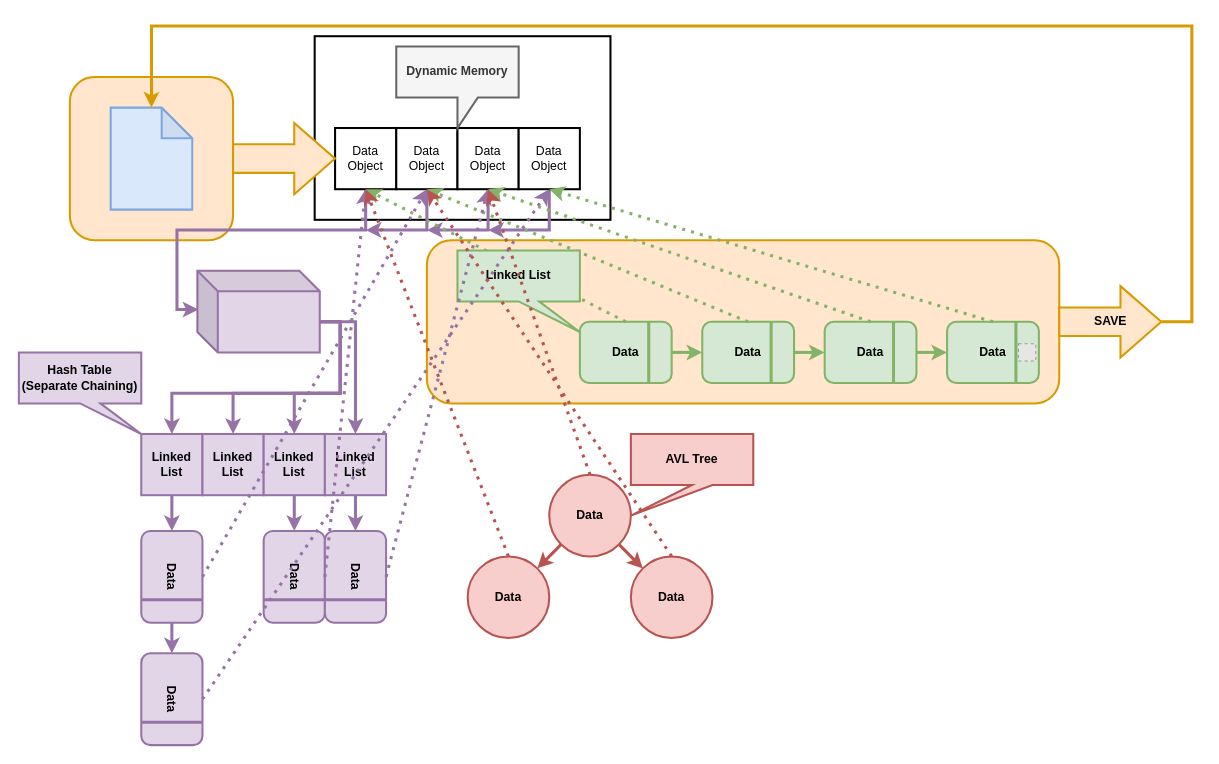
Some shapes in this 1219 by 764 pixel diagram are drawn without their labels. Grey dashed boxes stand in for pictures. Here are the shapes that lost their labels. From the top down, the centre of each, then its label:
At point (151, 158): "Data Record File".
At point (284, 158): "LOAD".
At point (258, 311): "Hash Function Data.UID >> Hash".
